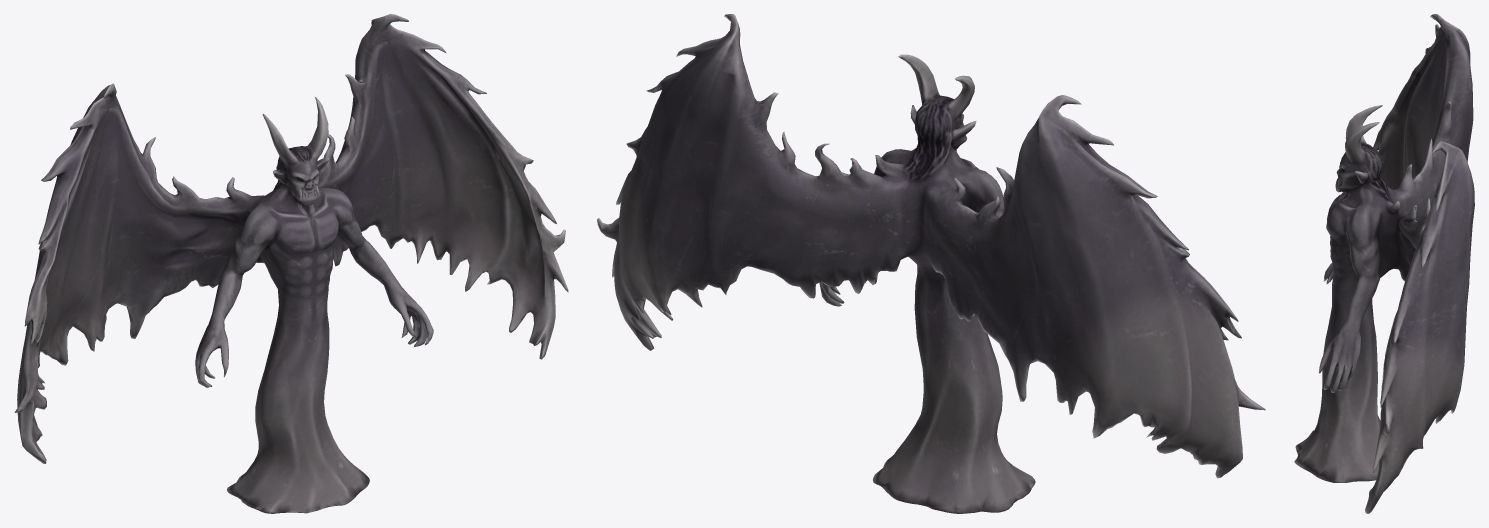
The model's file is MZ4250 - Shadow Demon.glb.
The picture shows the model from 3 angles, left to right: view 1: azimuth 30°, elevation 25°; view 2: azimuth 150°, elevation 25°; view 3: azimuth 270°, elevation 25°; orthographic projection. The views are drawn at different scales.
Parts seen in each view (by area): view 1: gpshadowdeamon01; view 2: gpshadowdeamon01; view 3: gpshadowdeamon01.
Boxes of the visible parts, x1,y1,x2,y2 form: gpshadowdeamon01: (14, 14, 568, 513); gpshadowdeamon01: (597, 14, 1265, 513); gpshadowdeamon01: (1294, 14, 1474, 513).
Size of the model in its own units: 1.72 by 1.18 by 0.511.
1 material, 1 textured.
